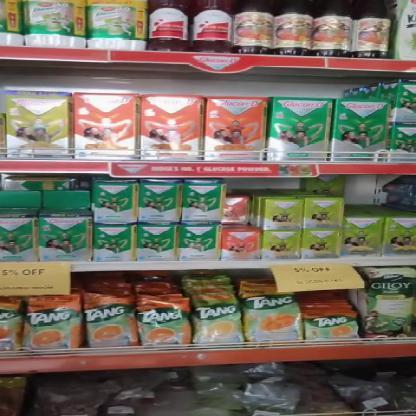Glucon D Nimbu Pani 1-KG: (0, 93, 65, 156)
Glucon D Regular 1-KG: (270, 96, 332, 164), (333, 98, 391, 162)
Glucon D Tangy orange 1-KG: (72, 94, 137, 160)
